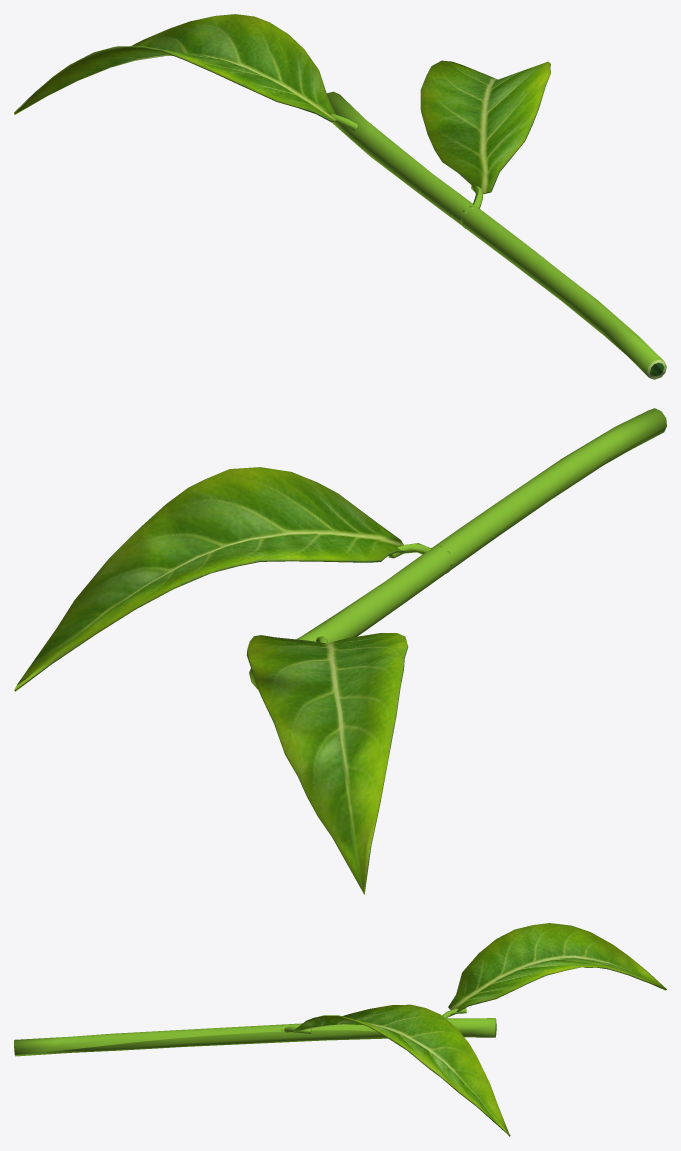
The model's file is NP_WaterSpinach_LooseSprig_LOD1.fbx.
3 renders of one model, top to bottom at view 1: azimuth 30°, elevation 25°; view 2: azimuth 150°, elevation 25°; view 3: azimuth 270°, elevation 25°, orthographic. The views are drawn at different scales.
Visible parts, largest first — view 1: NP_WaterSpinach_LooseSprig.001; view 2: NP_WaterSpinach_LooseSprig.001; view 3: NP_WaterSpinach_LooseSprig.001.
Boxes of the visible parts, x1,y1,x2,y2 form: NP_WaterSpinach_LooseSprig.001: (14,14,666,379); NP_WaterSpinach_LooseSprig.001: (14,408,666,894); NP_WaterSpinach_LooseSprig.001: (14,923,666,1136).
Size of the model in its own units: 37.85 by 11.37 by 73.34.
